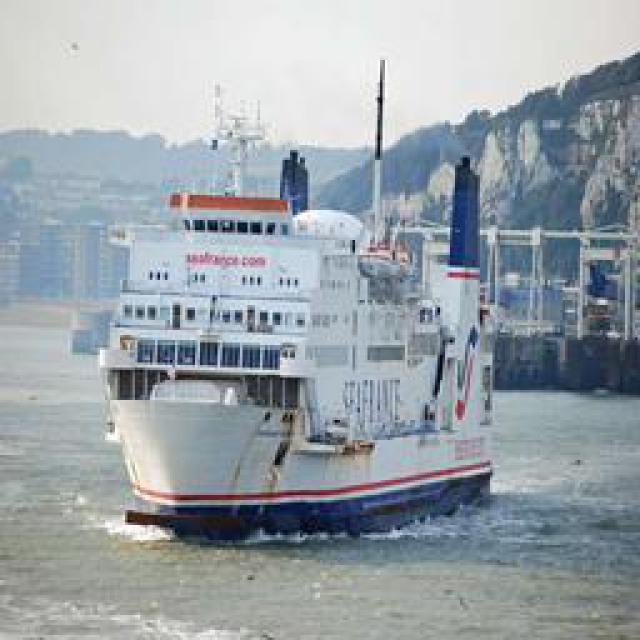Ship: (98, 85, 503, 538)
